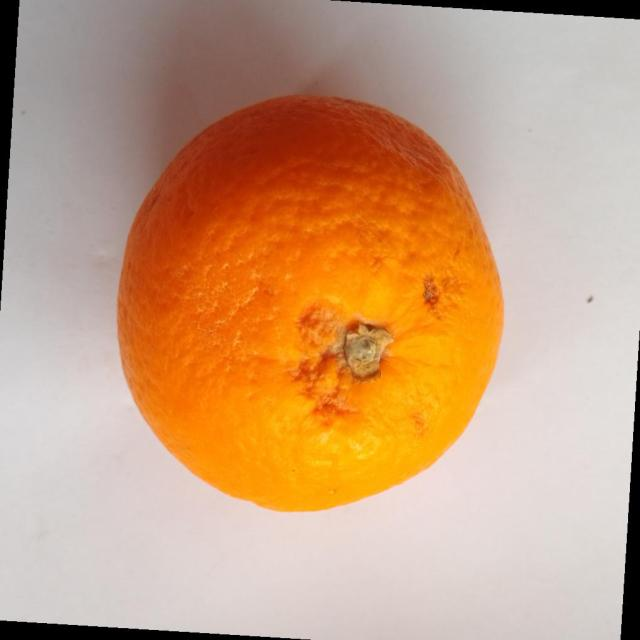fresh orange: (116, 92, 505, 513)
